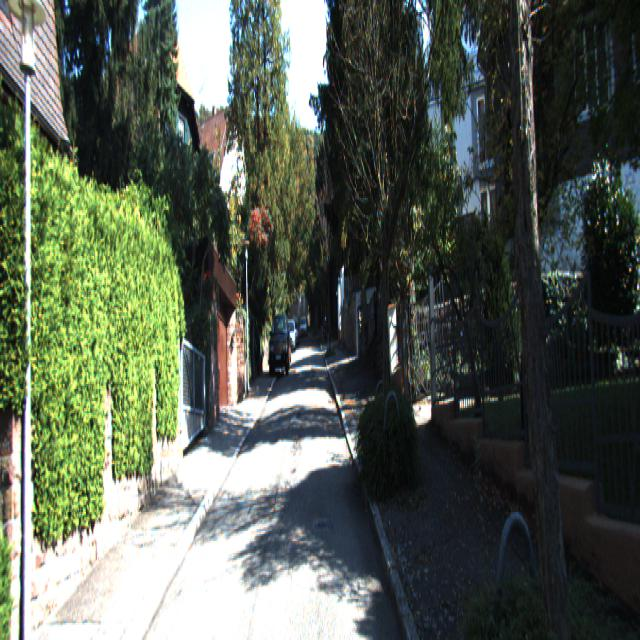Car: (268, 312, 289, 381), (286, 317, 296, 353)
